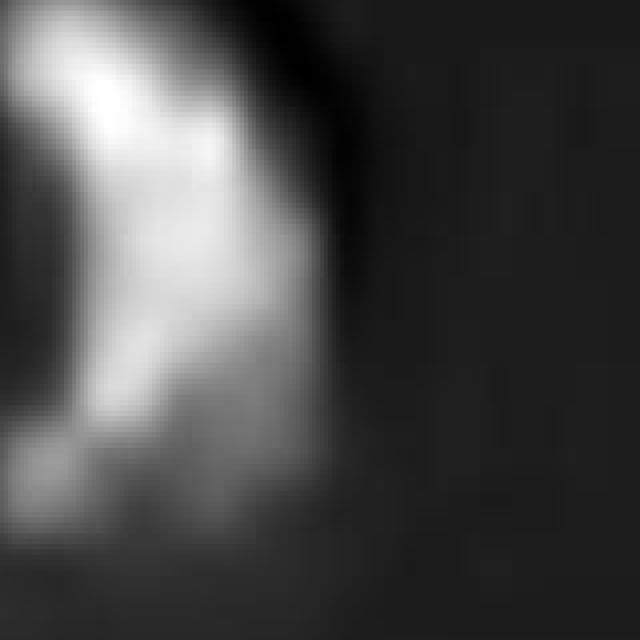person: (1, 1, 349, 561)
